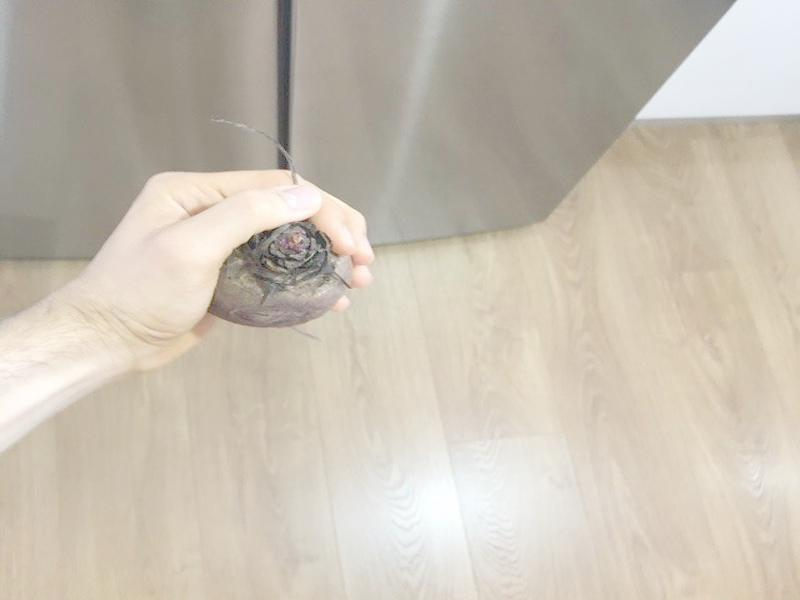Beet: (206, 117, 354, 327)
